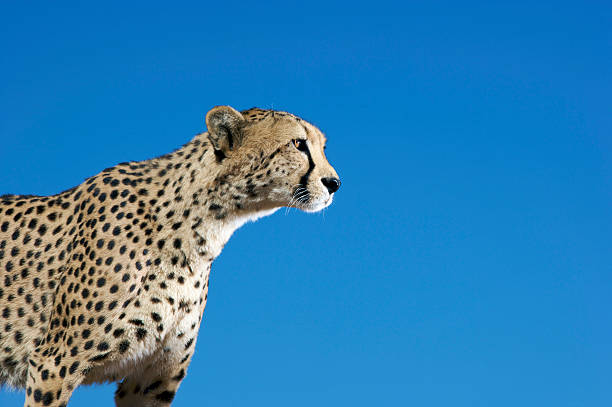cheetah: (199, 99, 361, 231)
